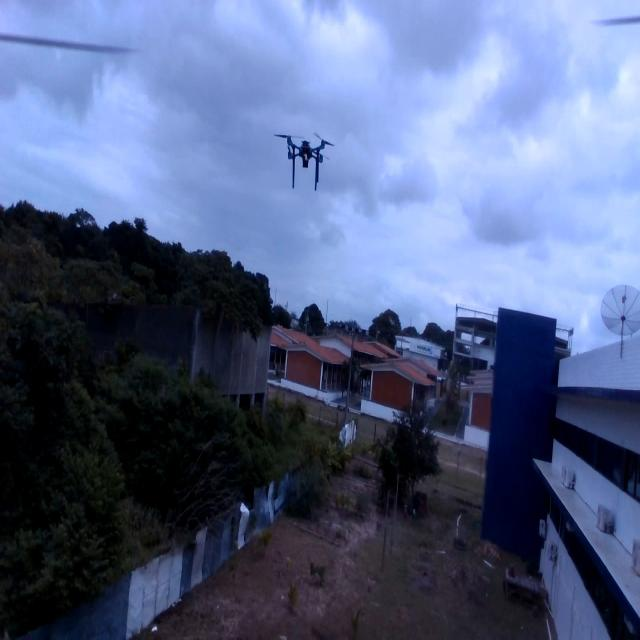-uav-: (274, 118, 338, 198)
